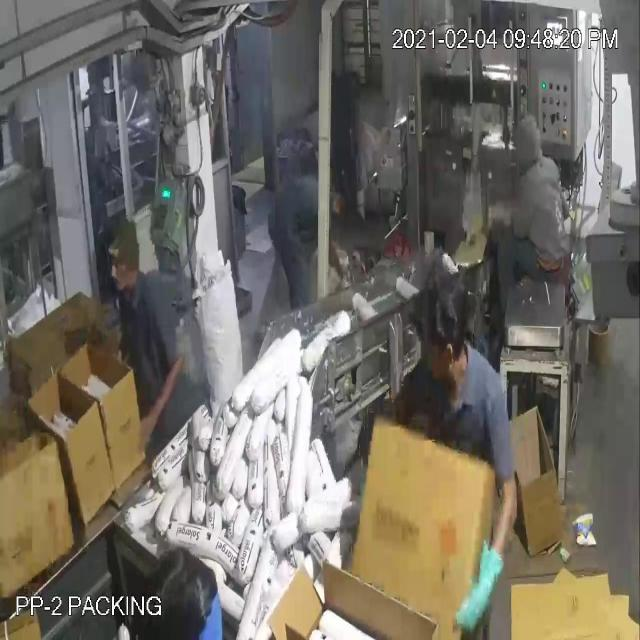Gloves: (72, 94, 472, 588)
